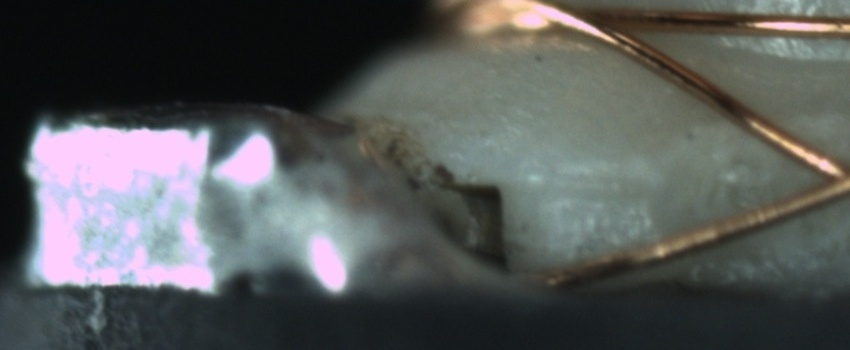CL: (774, 128, 849, 213)
DL: (533, 158, 656, 224)
